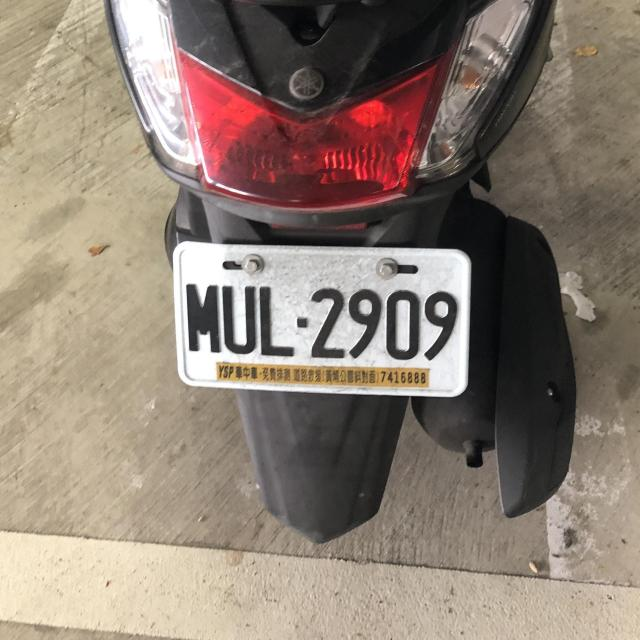W: (165, 229, 477, 406)
